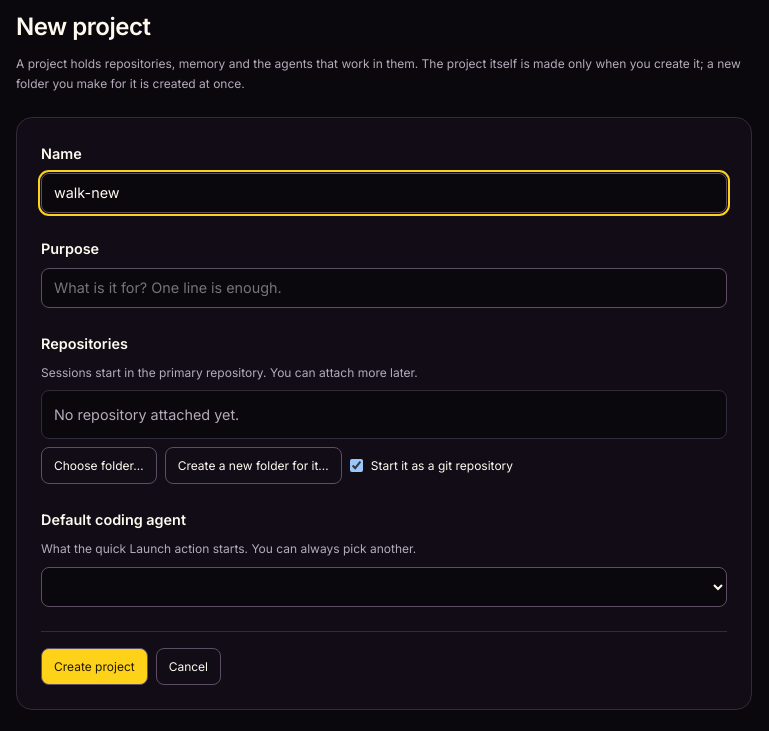
Test: a new folder for a new project (SCN-129) › creates the folder under the chosen parent, named after the project, and adds it as the primary repository
This screenshot has width=769, height=731.
What coordinates should you click on to do the following:
click the button "Create a new folder for it…"
I would click on:
 (253, 466)
Its box is left=165, top=447, right=342, bottom=484.
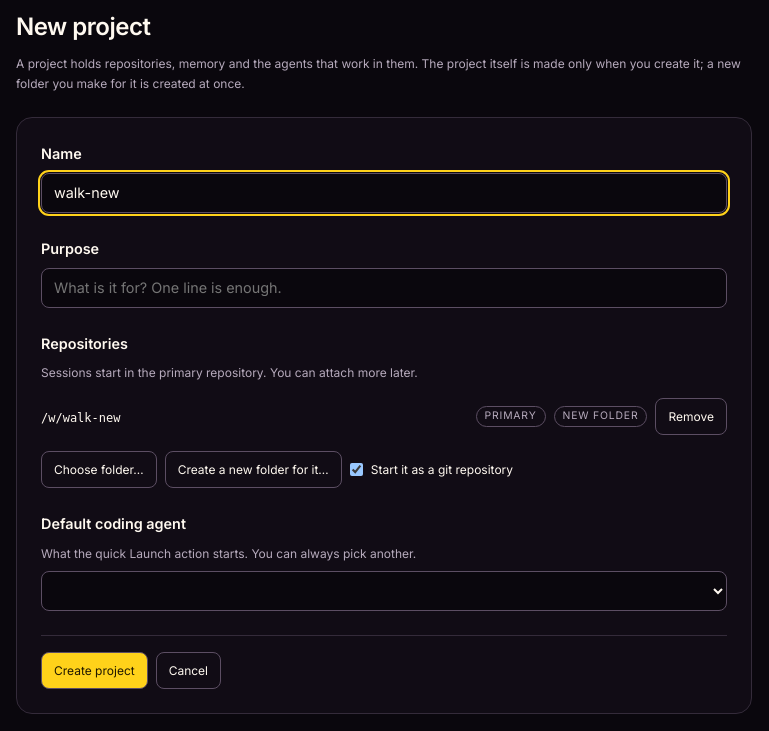
Check: the text "/w/walk-new" is shown, box left=41, top=411, right=120, bottom=425
